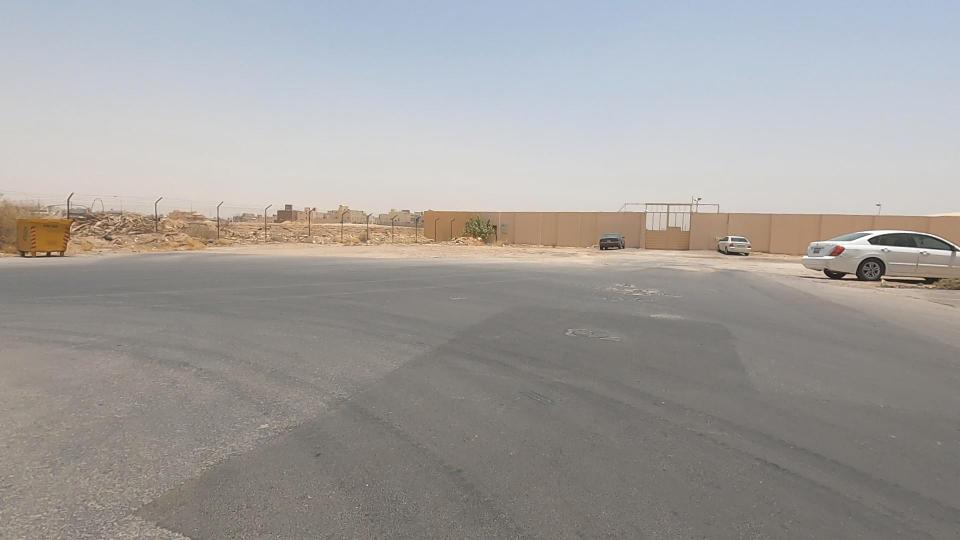GARBAGE: (40, 186, 206, 269)
